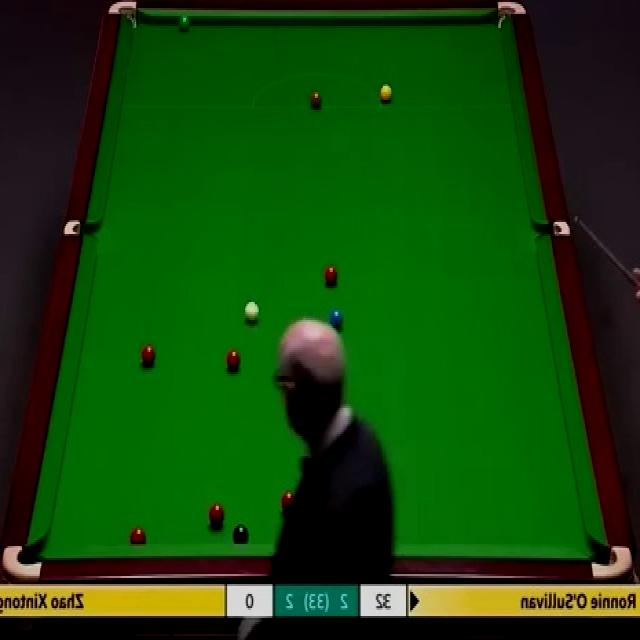black-ball: (233, 523, 250, 543)
blue-ball: (329, 308, 345, 331)
brown-ball: (309, 88, 323, 111)
green-ball: (177, 14, 190, 30)
pink-ball: (323, 261, 338, 288)
red-ball: (281, 489, 297, 517), (208, 502, 225, 528), (226, 348, 240, 374), (129, 526, 145, 546), (141, 344, 155, 366)
white-ball: (243, 298, 260, 324)
yellow-ball: (380, 83, 393, 103)
